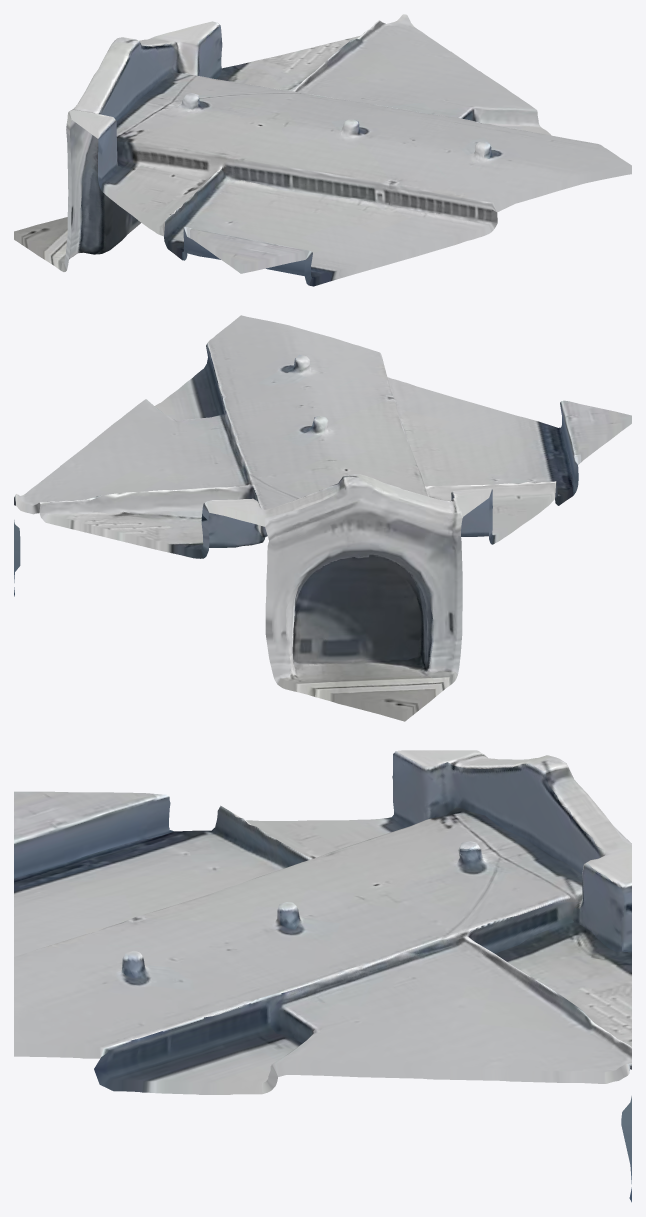
Rendered from z20-167770-405192-h0-yup-uvflip-v3-world.glb.
3 views of the same model, one above another, from view 1: azimuth 30°, elevation 25°; view 2: azimuth 150°, elevation 25°; view 3: azimuth 270°, elevation 25° (orthographic). The views are drawn at different scales.
Size of the model in its own units: 30.16 by 14.88 by 30.32.
1 material, 1 textured.
